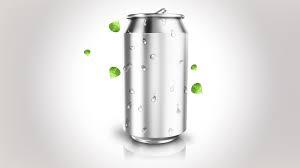Aluminum can: (113, 11, 196, 147)
